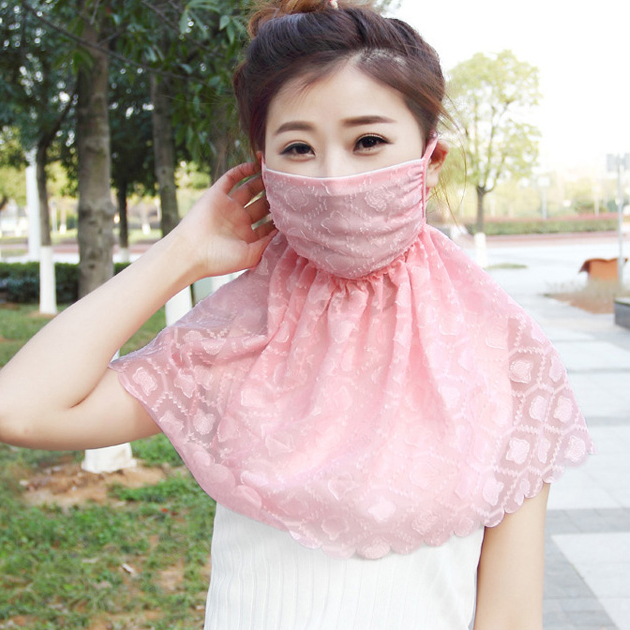face_mask: (258, 59, 423, 269)
